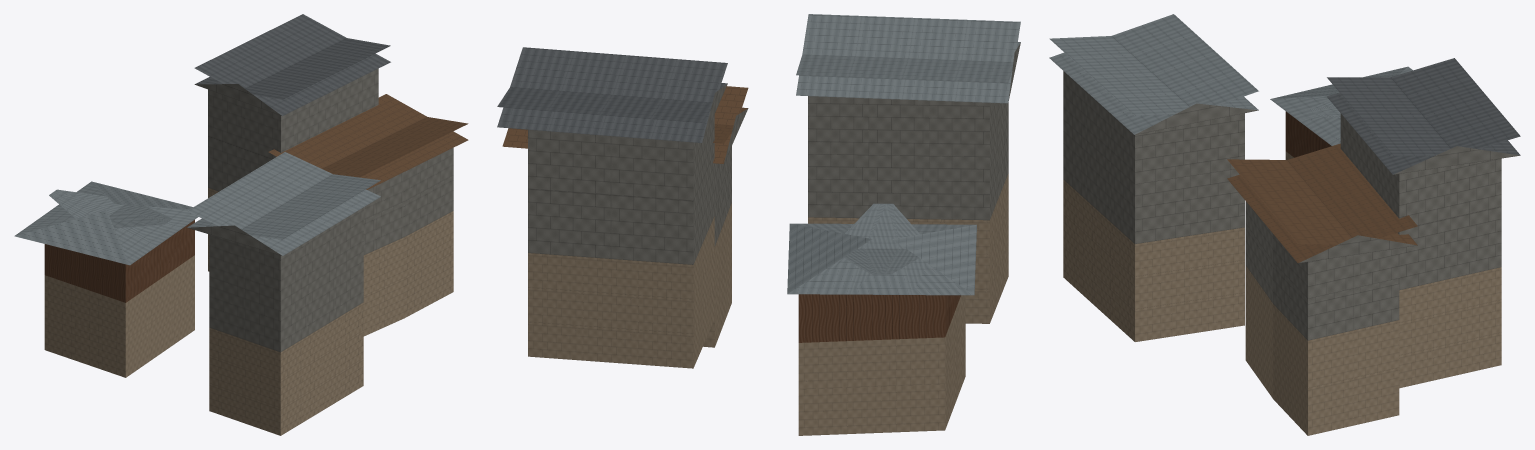
Rendered from bld_c37_-12_536.gltf.
The picture shows the model from 3 angles, left to right: view 1: azimuth 30°, elevation 25°; view 2: azimuth 150°, elevation 25°; view 3: azimuth 270°, elevation 25°; orthographic projection. The views are drawn at different scales.
Visible parts, largest first — view 1: bld_c37_-12_536; view 2: bld_c37_-12_536; view 3: bld_c37_-12_536.
Part boxes in pixels (x1,y1,x2,y2): bld_c37_-12_536: (14,14,468,435); bld_c37_-12_536: (497,14,1020,435); bld_c37_-12_536: (1049,14,1520,435).
Size of the model in its own units: 26.04 by 13.8 by 22.24.
Materials: 7 (7 with a texture image).
